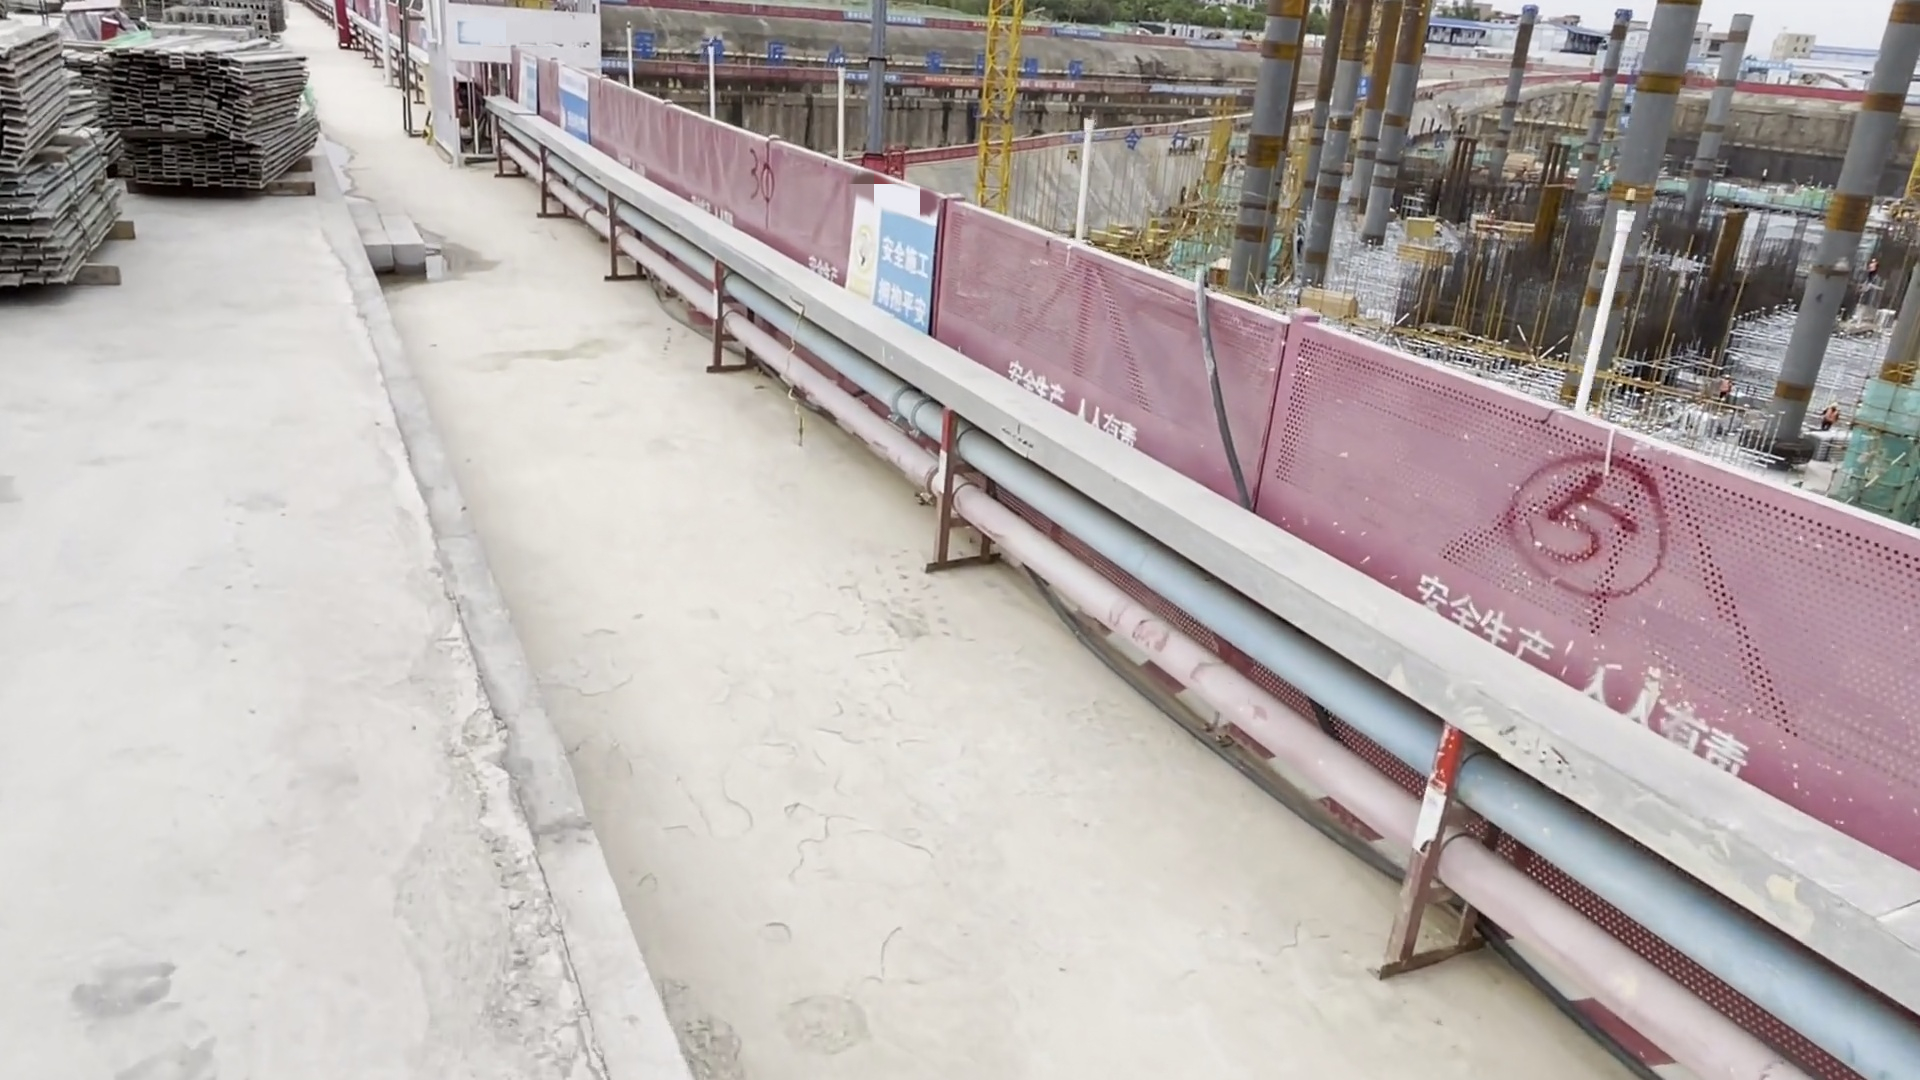fence: (513, 46, 1920, 1080)
slogan: (851, 195, 942, 336)
